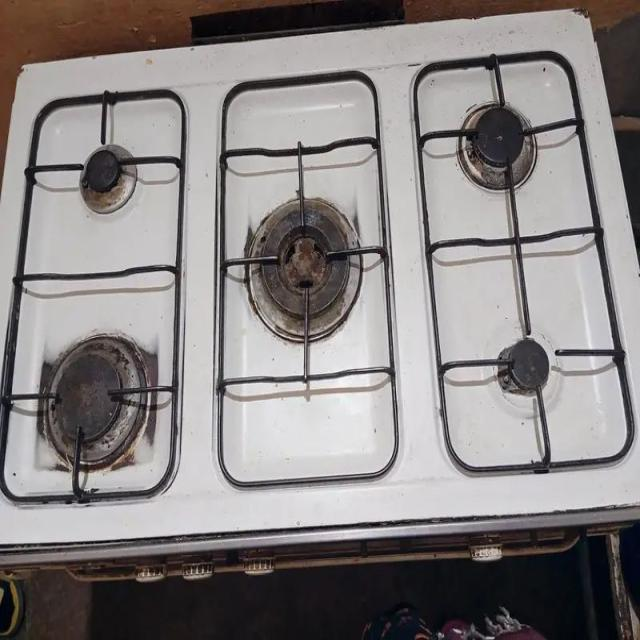electronic: (1, 6, 638, 582)
